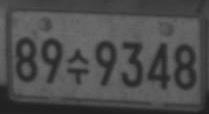3: (120, 40, 144, 87)
4: (146, 42, 172, 90)
8: (173, 44, 197, 89), (15, 36, 38, 82)
9: (39, 38, 63, 83), (95, 40, 118, 85)
수: (65, 48, 90, 84)
